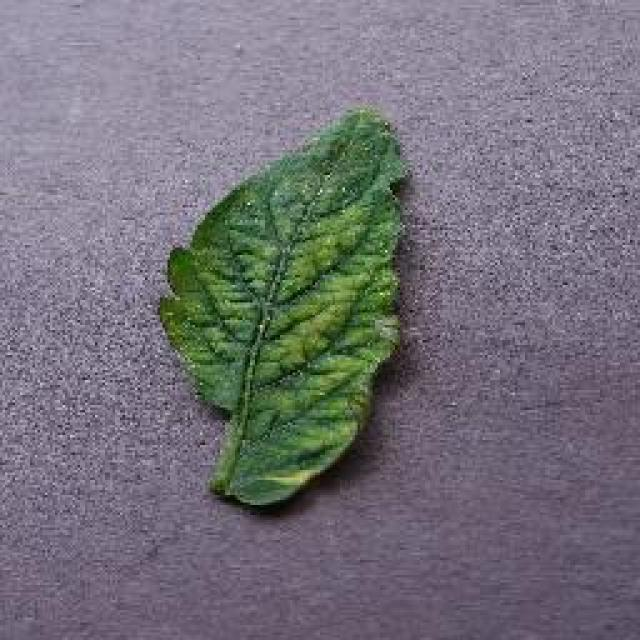Tom_mosaic_virus: (196, 196, 366, 412)
